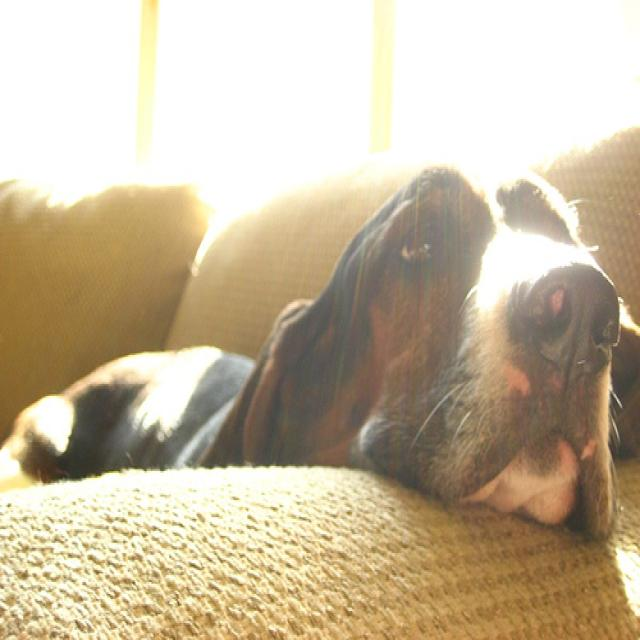dog-basset_hound: (1, 157, 623, 541)
